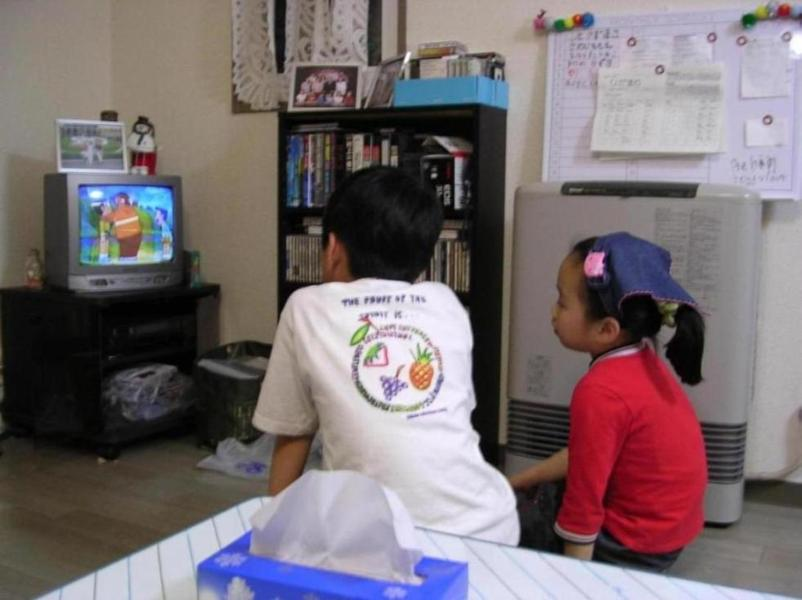person: (254, 168, 526, 554)
